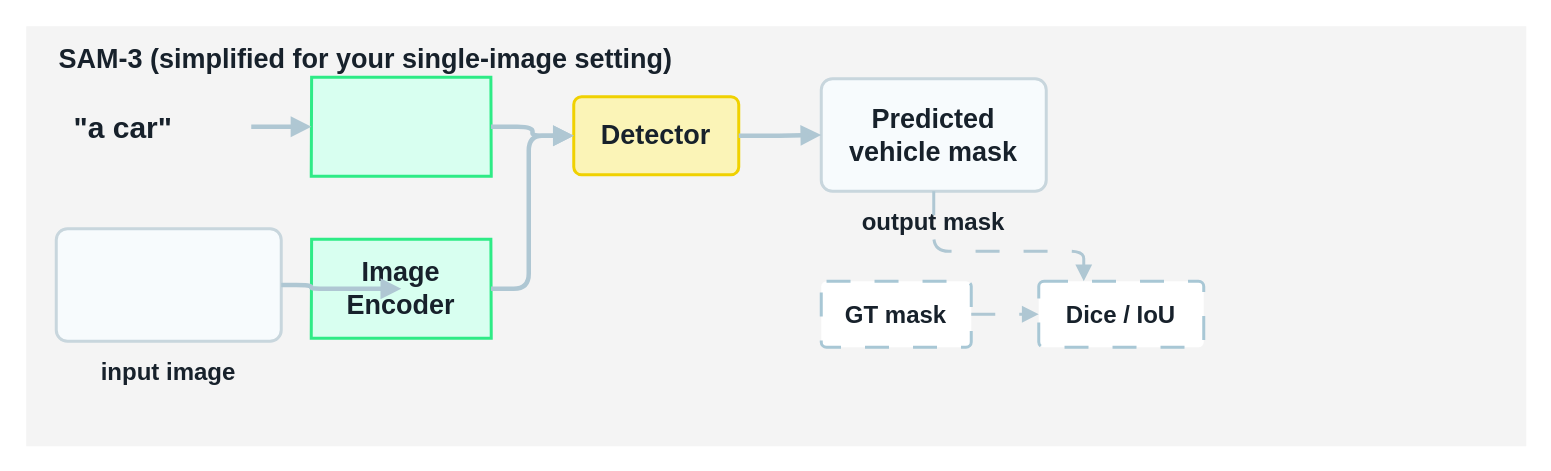
The diagram is 1551 pixels wide and 471 high, and some of its shapes have lost their labels. The shapes that lost their labels are listed below. From the top down, each one's centre as x and y in pixels, then its label:
the point at 400,126: Text Encoder
the point at 168,284: Carvana image
